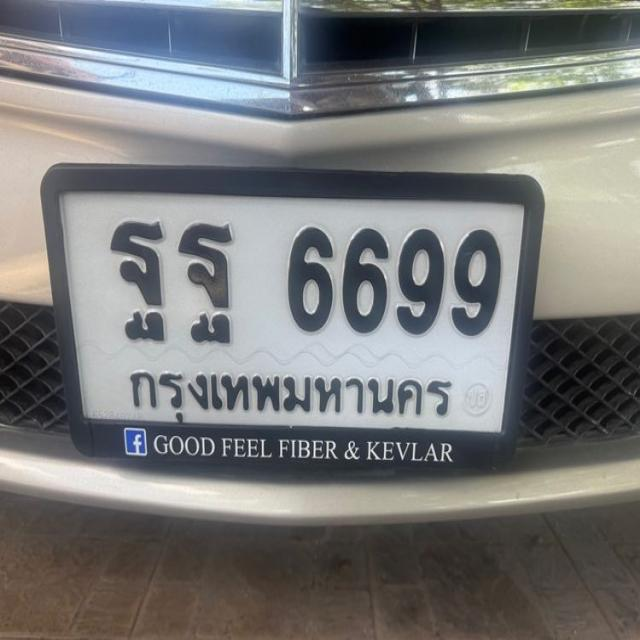plate: (57, 185, 510, 430)
